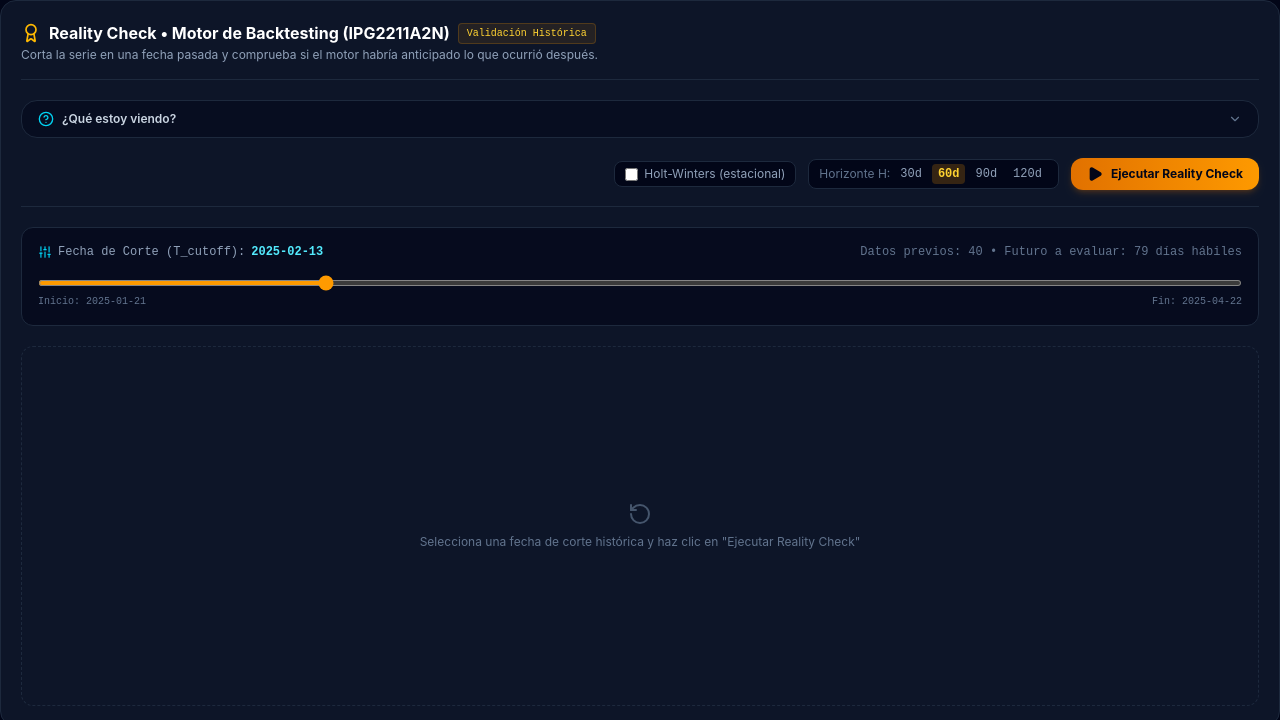
Test: BacktestPanel engine choice › sends engine=holt_winters when chosen and shows the engine that actually ran
Click the checkbox labelled "Holt-Winters (estacional)": [632, 174] box [625,168,638,180]
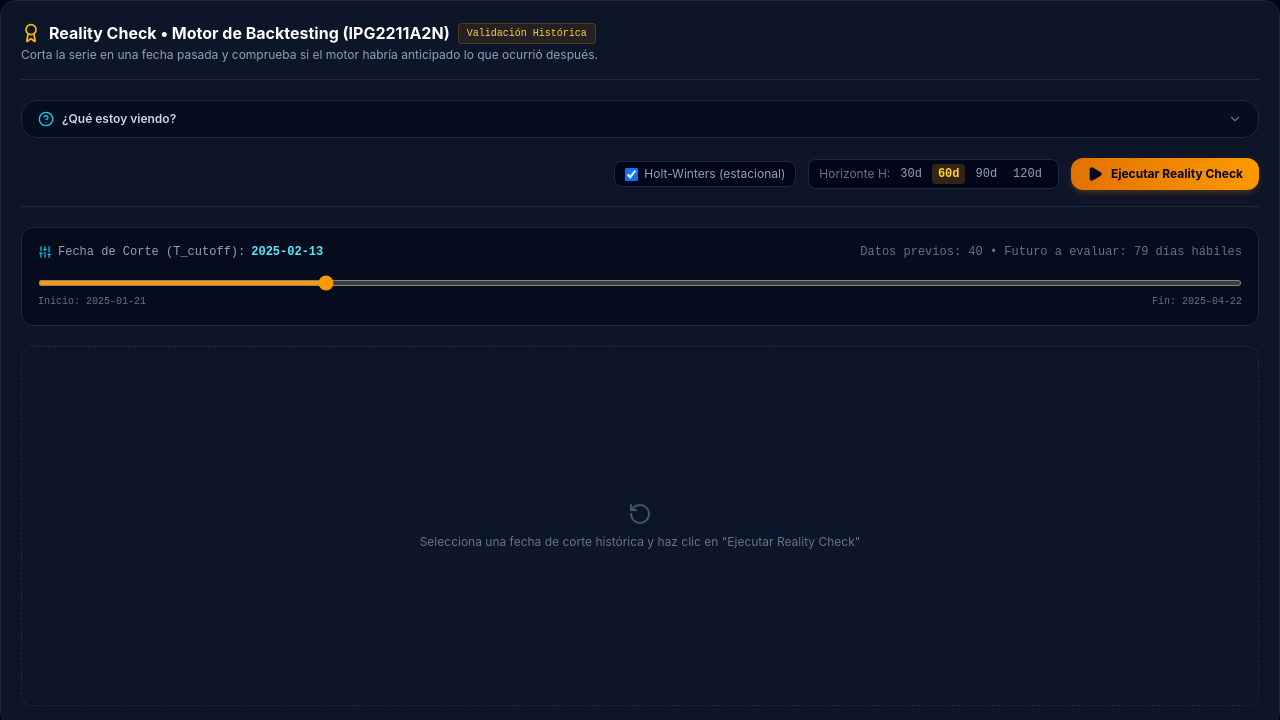
Click the button "Ejecutar Reality Check": [1165, 174] box [1071,158,1259,190]
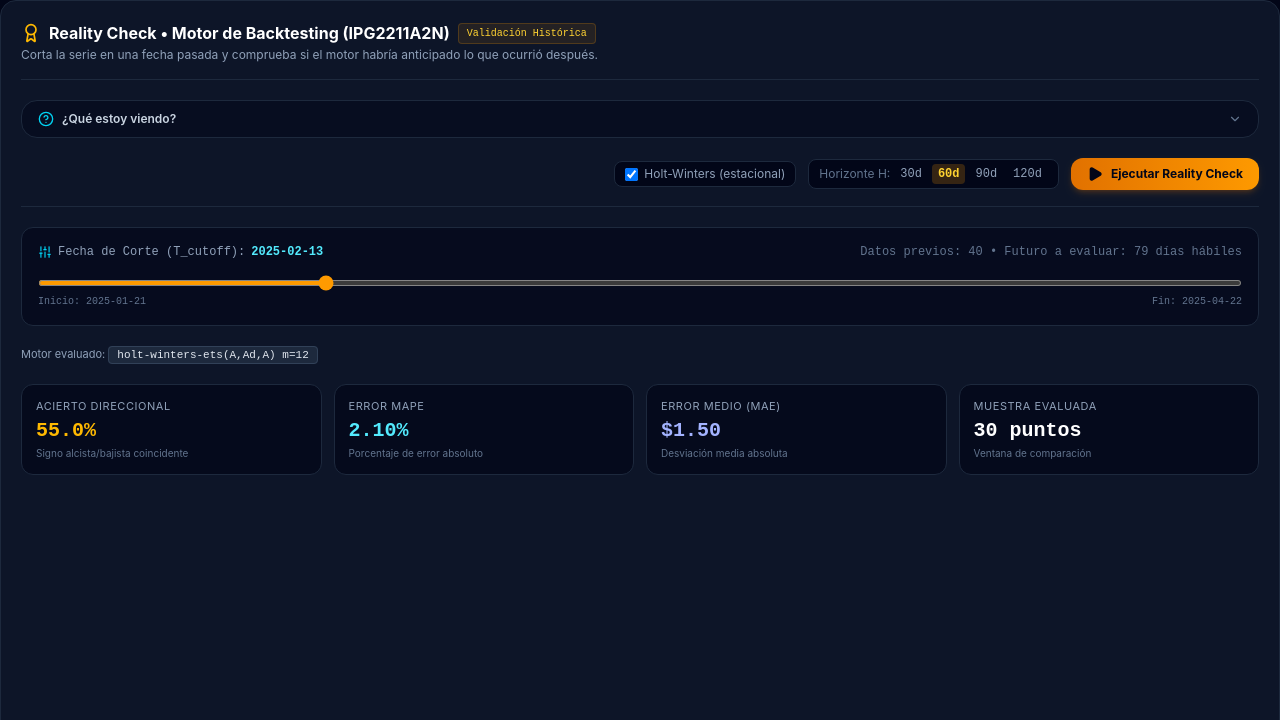
Now the text with test id "backtest-engine-badge" reads "holt-winters-ets(A,Ad,A) m=12", box [117,349,309,361]
